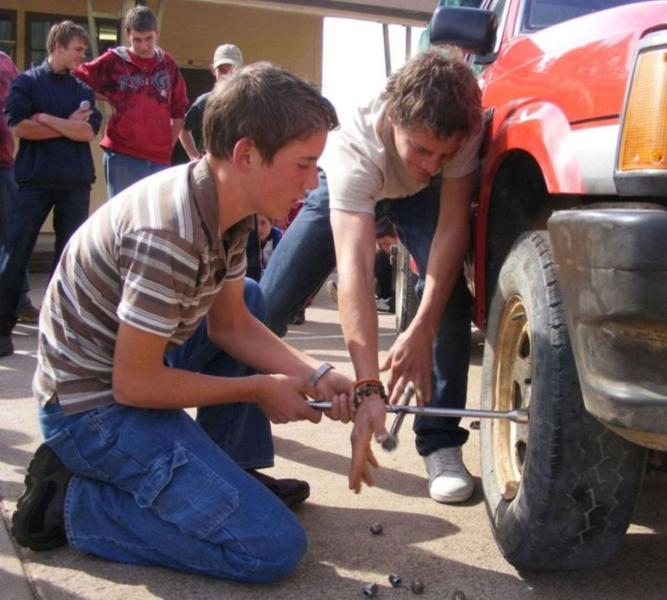person: (10, 63, 361, 584)
